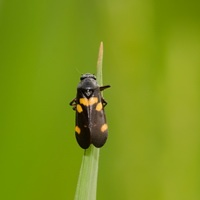insect: (70, 73, 109, 148), (70, 73, 109, 148)
